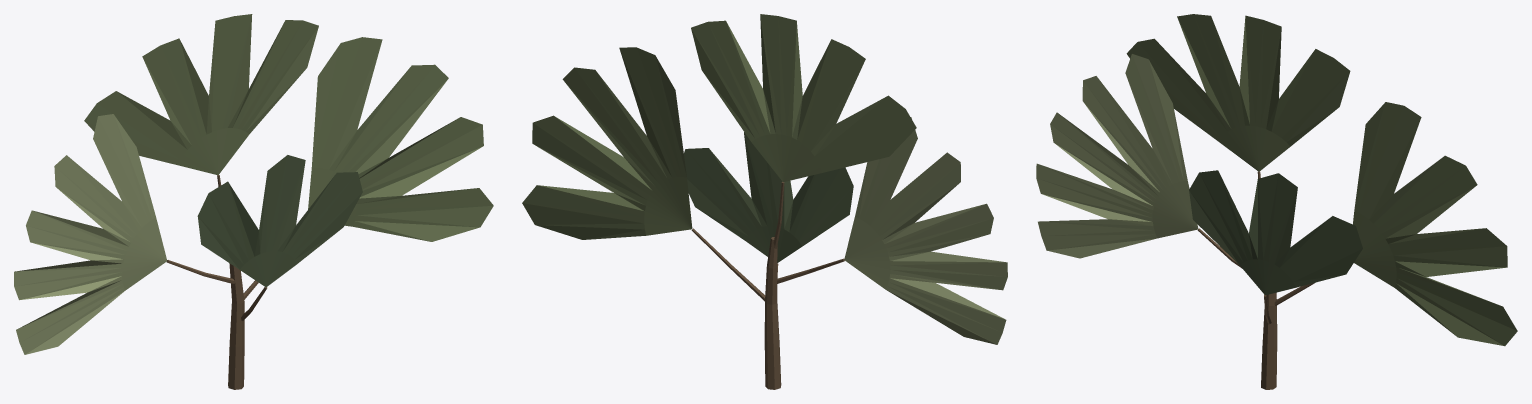
The picture shows the model from 3 angles, left to right: view 1: azimuth 30°, elevation 25°; view 2: azimuth 150°, elevation 25°; view 3: azimuth 330°, elevation 25°; orthographic projection.
Parts seen in each view (by area): view 1: right-fan, left-fan, upper-fan, lower-front-fan, compact-short-shoot-and-connected-petioles; view 2: right-fan, upper-fan, left-fan, lower-front-fan, compact-short-shoot-and-connected-petioles; view 3: right-fan, left-fan, upper-fan, lower-front-fan, compact-short-shoot-and-connected-petioles.
Part boxes in pixels (bbox=[...]): right-fan: bbox=[308, 37, 493, 241]; left-fan: bbox=[14, 114, 167, 354]; upper-fan: bbox=[84, 14, 318, 175]; lower-front-fan: bbox=[197, 155, 362, 287]; compact-short-shoot-and-connected-petioles: bbox=[166, 175, 267, 389]; right-fan: bbox=[522, 47, 692, 239]; upper-fan: bbox=[691, 14, 916, 182]; left-fan: bbox=[844, 117, 1007, 344]; lower-front-fan: bbox=[684, 132, 853, 262]; compact-short-shoot-and-connected-petioles: bbox=[691, 181, 844, 389]; right-fan: bbox=[1353, 102, 1517, 346]; left-fan: bbox=[1036, 54, 1198, 258]; upper-fan: bbox=[1126, 14, 1350, 171]; lower-front-fan: bbox=[1189, 170, 1362, 295]; compact-short-shoot-and-connected-petioles: bbox=[1197, 171, 1314, 389].
Size of the model in its own units: 0.2155 by 0.1584 by 0.023.
